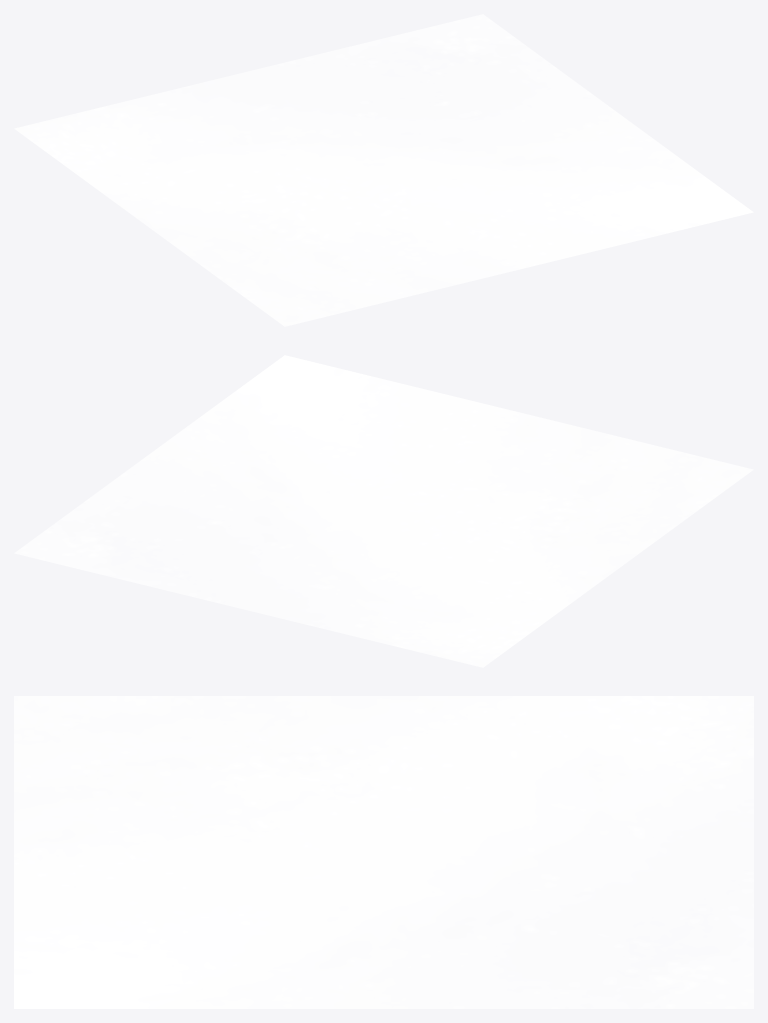
File: galaxy.glb
3 renders of one model, top to bottom at view 1: azimuth 30°, elevation 25°; view 2: azimuth 150°, elevation 25°; view 3: azimuth 270°, elevation 25°, orthographic. The views are drawn at different scales.
Visible parts, largest first — view 1: Cube; view 2: Cube; view 3: Cube.
Boxes of the visible parts, box(x1,y1,x2,y2) form: Cube: box(14, 14, 753, 326); Cube: box(14, 355, 753, 667); Cube: box(14, 696, 753, 1008).
Size of the model in its own units: 3.54 by 0.091 by 3.54.
1 material, 1 textured.
